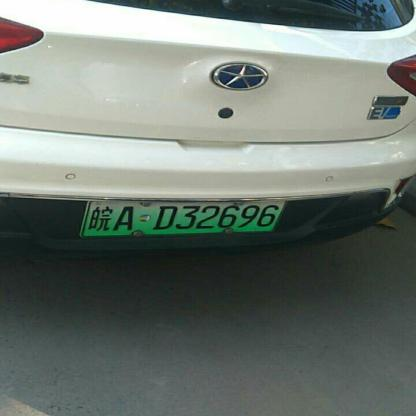lp: (83, 200, 287, 236)
